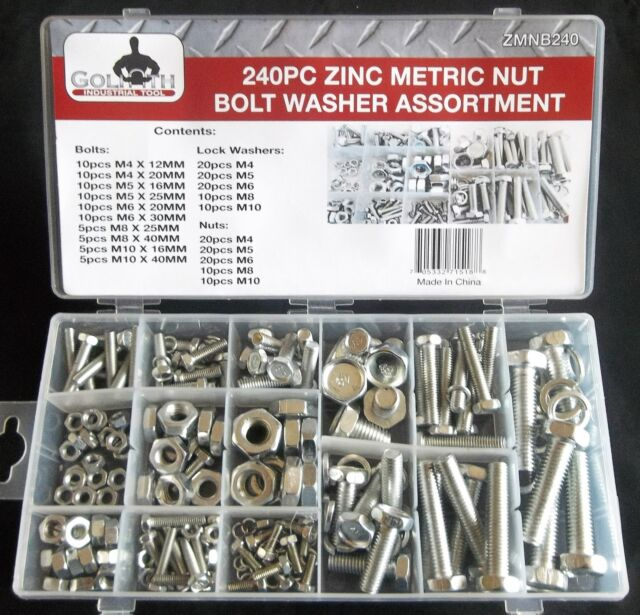hex bolt: (468, 456, 522, 598), (499, 339, 553, 481), (357, 496, 418, 602), (452, 318, 504, 419)
hex nut: (227, 405, 285, 464), (224, 453, 282, 512), (147, 395, 207, 440), (144, 433, 195, 479), (59, 513, 104, 555)
